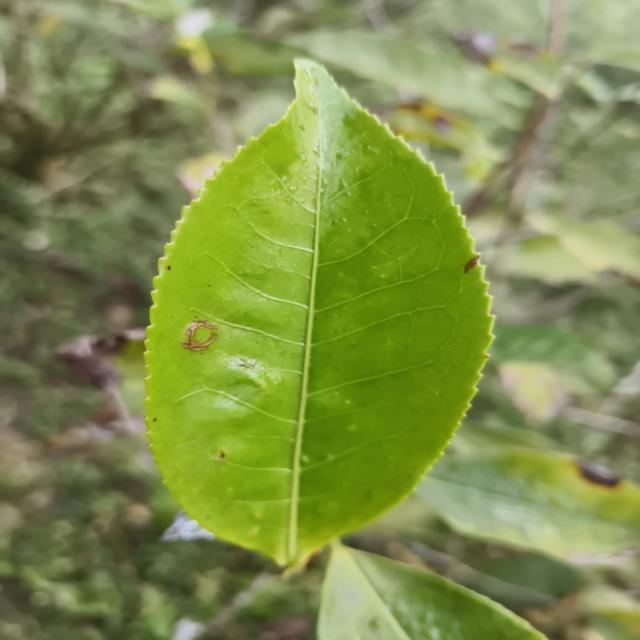Leaf: (146, 58, 492, 566), (416, 447, 640, 556), (317, 543, 545, 640), (286, 30, 498, 116)
